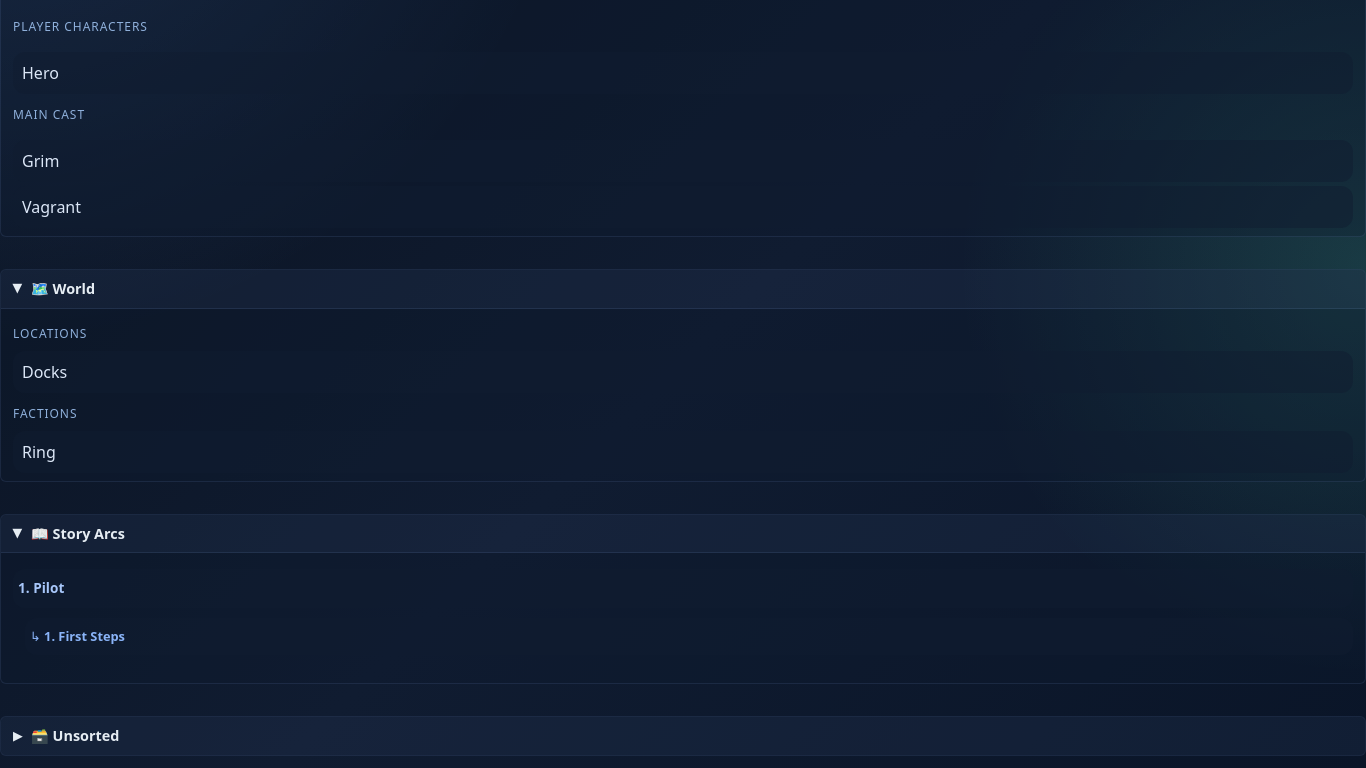
Test: CampaignRegistry › shows out-of-bucket files under Unsorted instead of dropping them
(page scrolled)
Step 1. Click the text "🗃️ Unsorted" → (75, 736), box top-left (31, 725), bottom-right (119, 747)
(page scrolled)
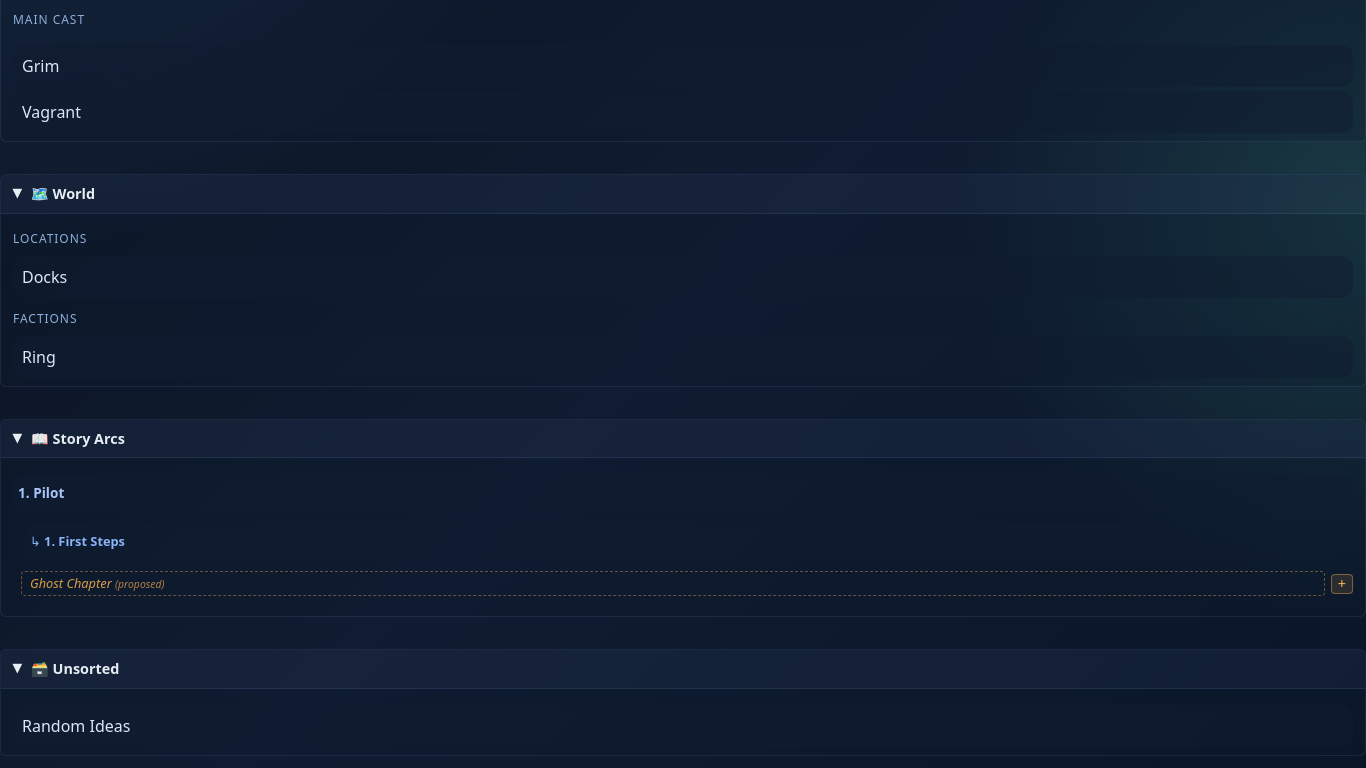
Expected: the button "Random Ideas" is shown, top-left (13, 705), bottom-right (1353, 747)
